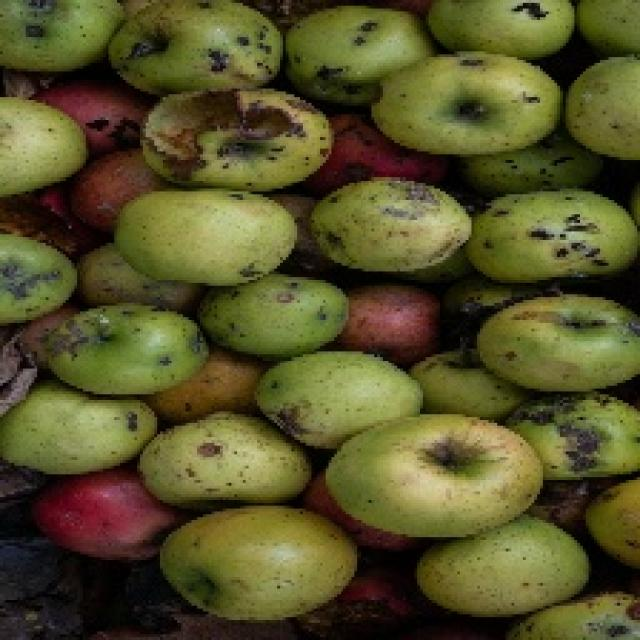rotten_apple: (146, 85, 330, 188), (319, 177, 473, 271), (112, 0, 282, 85), (52, 305, 210, 392), (471, 193, 639, 270), (140, 419, 269, 501), (286, 9, 387, 110), (265, 359, 371, 447), (541, 398, 640, 477), (0, 234, 71, 319)
